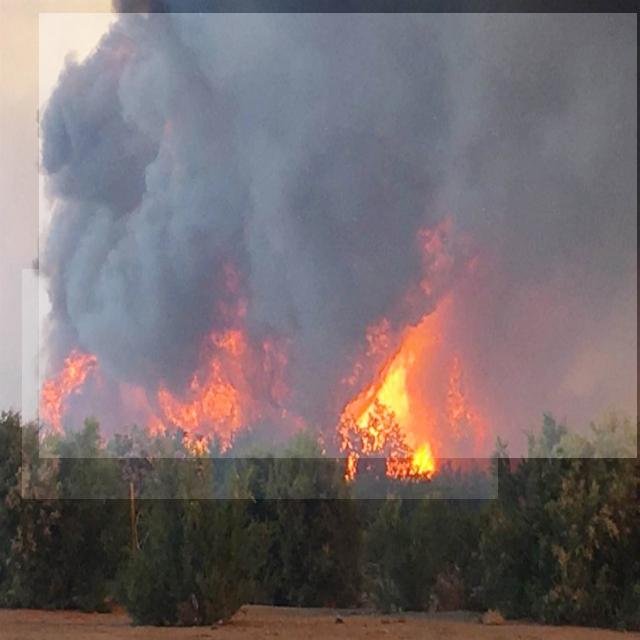Fire: (22, 269, 498, 499)
Smoke: (39, 13, 637, 458)
